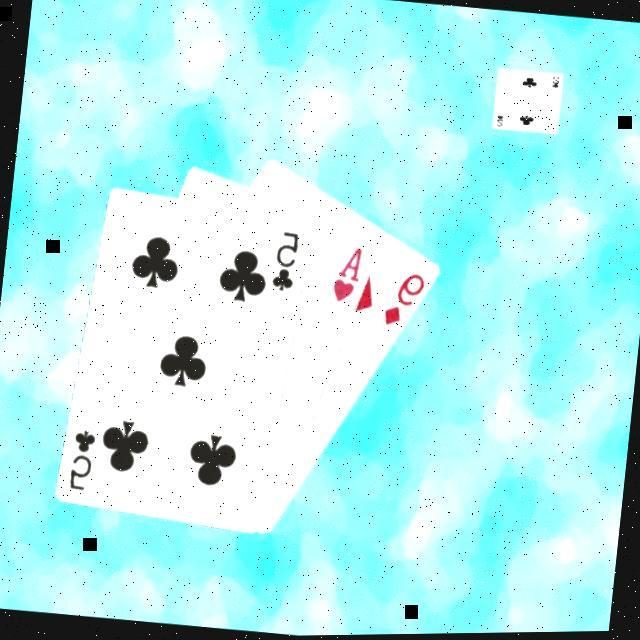5C: (268, 227, 306, 294), (66, 423, 102, 493)
9D: (381, 267, 432, 332)
AH: (330, 242, 368, 306)
